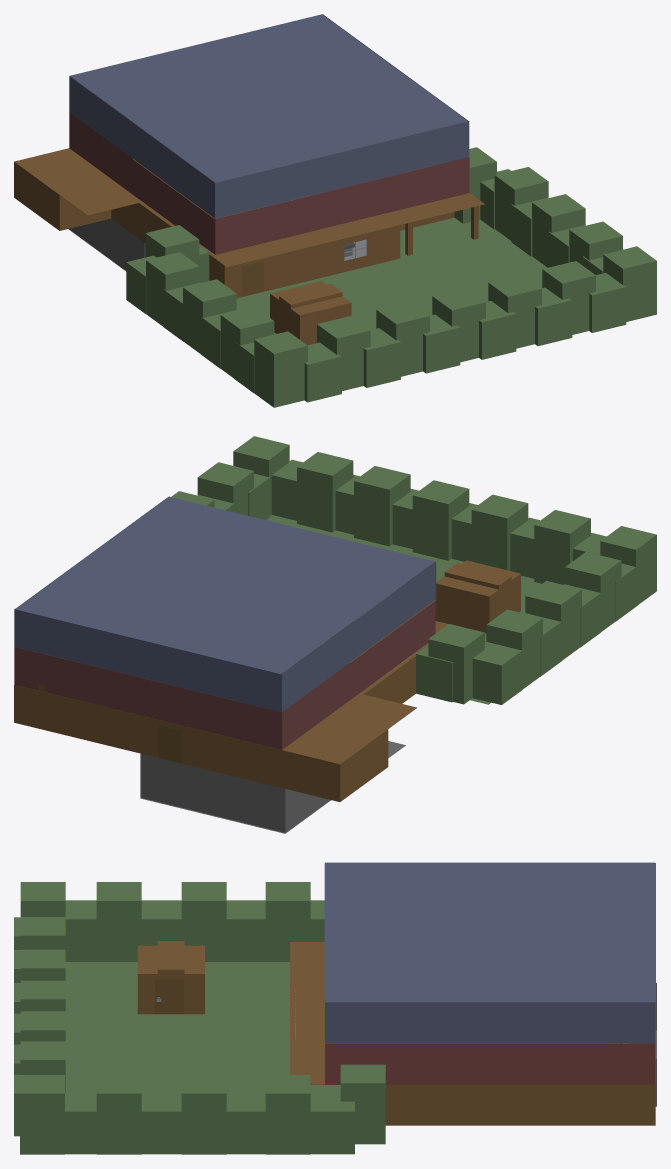
File: House_Map.glb
3 views of the same model, one above another, from view 1: azimuth 30°, elevation 25°; view 2: azimuth 150°, elevation 25°; view 3: azimuth 270°, elevation 25° (orthographic). The views are drawn at different scales.
Parts seen in each view (by area): view 1: Cube copy copy copy copy copy copy copy copy copy copy copy  (×26), Cube copy copy copy copy copy copy copy copy copy copy copy (×3), Cube copy copy copy copy, Cube copy copy copy copy copy copy copy (×5), Cube copy copy copy copy copy copy copy copy copy copy (×2), Cube copy copy copy copy copy copy copy copy (×5), Cube copy copy copy copy copy copy (×4), Cube copy copy copy copy copy (×2), Cube copy copy copy copy copy copy copy copy copy (×2), Door; view 2: Cube copy copy copy copy copy copy copy copy copy copy copy  (×23), Cube copy copy copy copy copy copy copy copy copy copy (×4), Cube copy copy copy copy copy copy copy copy copy copy copy (×3), Cube copy copy copy copy copy copy copy copy (×2), Cube copy copy copy, Cube copy copy copy copy copy copy copy (×2), Cube copy copy copy copy copy copy (×2), Cube copy copy copy copy copy (×2), Cube copy copy copy copy copy copy copy copy copy, Cube copy copy copy copy, Gold_Door; view 3: Cube copy copy copy copy copy copy copy copy copy copy copy  (×18), Cube copy copy copy copy (×2), Cube copy copy copy copy copy copy copy (×4), Cube copy copy copy copy copy (×2), Cube copy copy copy copy copy copy copy copy (×3), Cube copy copy copy copy copy copy copy copy copy (×2), Cube copy copy copy copy copy copy (×3), Cube copy copy copy copy copy copy copy copy copy copy (×2), Cube copy copy copy copy copy copy copy copy copy copy copy, Blue_Door.
Boxes of the visible parts, x1,y1,x2,y2 form: Cube copy copy copy copy copy copy copy copy copy copy copy  (×26): (14,14,572,407); Cube copy copy copy copy copy copy copy copy copy copy copy (×3): (215,157,626,334); Cube copy copy copy copy: (244,218,547,329); Cube copy copy copy copy copy copy copy (×5): (59,167,548,317); Cube copy copy copy copy copy copy copy copy copy copy (×2): (69,112,656,321); Cube copy copy copy copy copy copy copy copy (×5): (270,194,585,345); Cube copy copy copy copy copy copy (×4): (14,147,496,339); Cube copy copy copy copy copy (×2): (111,203,344,291); Cube copy copy copy copy copy copy copy copy copy (×2): (548,221,622,267); Door: (242,261,263,296); Cube copy copy copy copy copy copy copy copy copy copy copy  (×23): (15,466,656,833); Cube copy copy copy copy copy copy copy copy copy copy (×4): (14,436,435,749); Cube copy copy copy copy copy copy copy copy copy copy copy (×3): (14,452,353,711); Cube copy copy copy copy copy copy copy copy (×2): (182,560,520,801); Cube copy copy copy: (14,684,158,757); Cube copy copy copy copy copy copy copy (×2): (435,563,511,633); Cube copy copy copy copy copy copy (×2): (340,579,520,801); Cube copy copy copy copy copy (×2): (266,515,541,703); Cube copy copy copy copy copy copy copy copy copy: (197,462,253,515); Cube copy copy copy copy: (266,515,539,624); Gold_Door: (158,725,182,763); Cube copy copy copy copy copy copy copy copy copy copy copy  (×18): (20,863,655,1084); Cube copy copy copy copy (×2): (65,993,655,1125); Cube copy copy copy copy copy copy copy (×4): (157,941,354,1154); Cube copy copy copy copy copy (×2): (65,962,204,1092); Cube copy copy copy copy copy copy copy copy (×3): (137,945,265,1154); Cube copy copy copy copy copy copy copy copy copy (×2): (96,1075,181,1154); Cube copy copy copy copy copy copy (×3): (65,962,385,1144); Cube copy copy copy copy copy copy copy copy copy copy (×2): (20,1075,96,1154); Cube copy copy copy copy copy copy copy copy copy copy copy: (20,1041,65,1092); Blue_Door: (155,979,183,1014).
Size of what is drawn, in the model's own units: 111 by 42.05 by 143.
